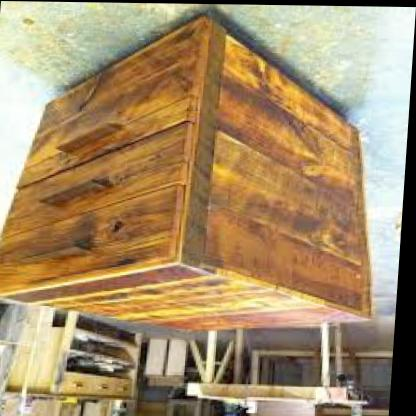Miscellaneous: (0, 16, 385, 348)
